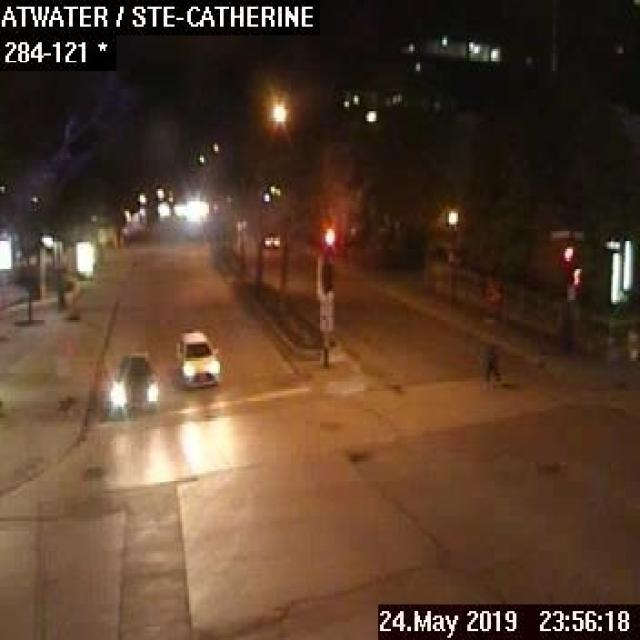pedestrian: (482, 339, 500, 389)
vehicle: (106, 351, 158, 409), (171, 330, 219, 388), (262, 229, 279, 247)
